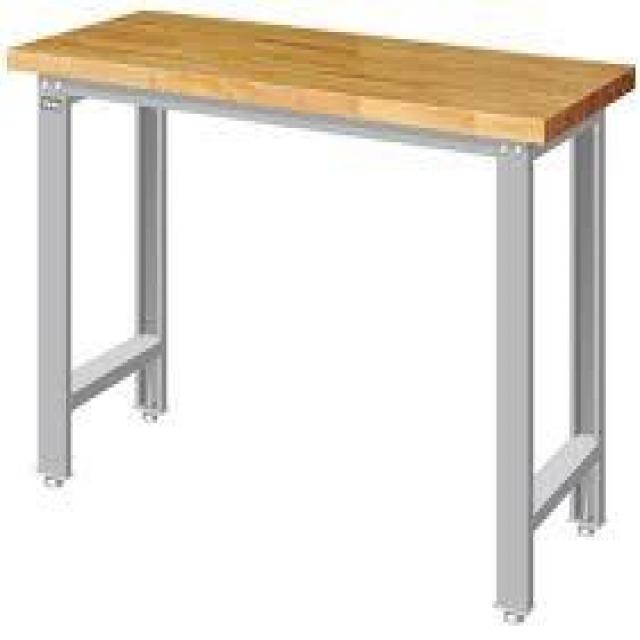table: (10, 15, 614, 598)
